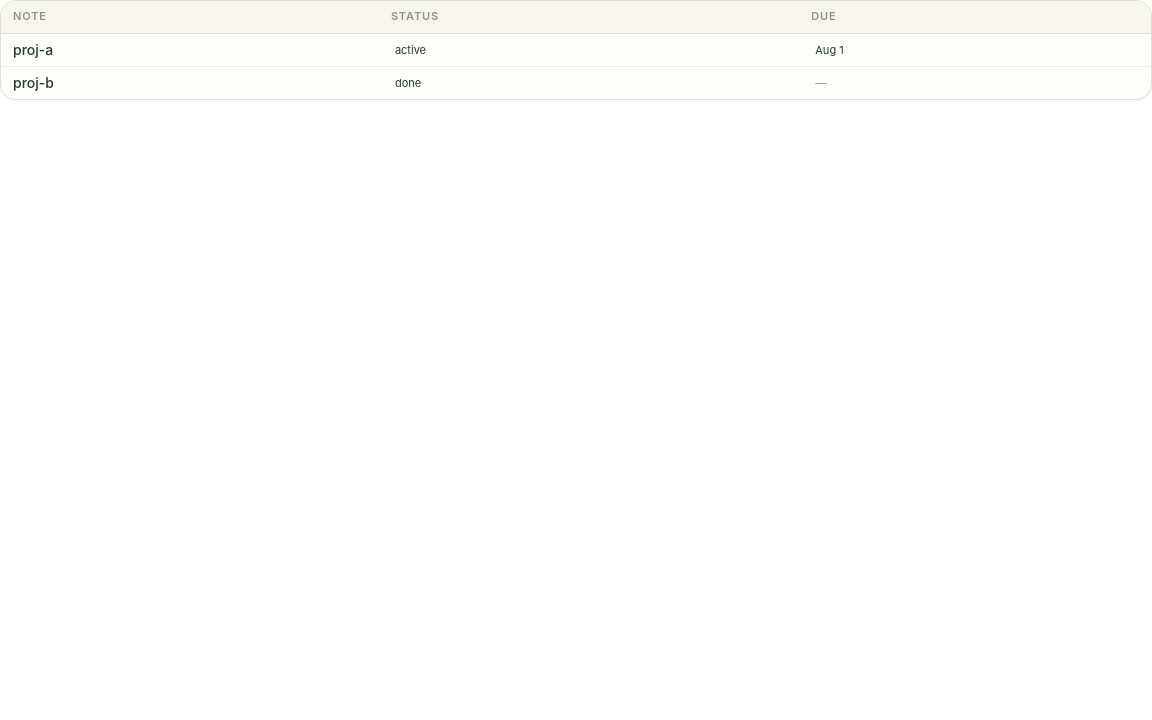
TableView › an empty cell shows the quiet — affordance; clicking it opens the editor
Step 1. Click the button named "Edit due" → coordinates (821, 84), box 811,74 -> 830,94
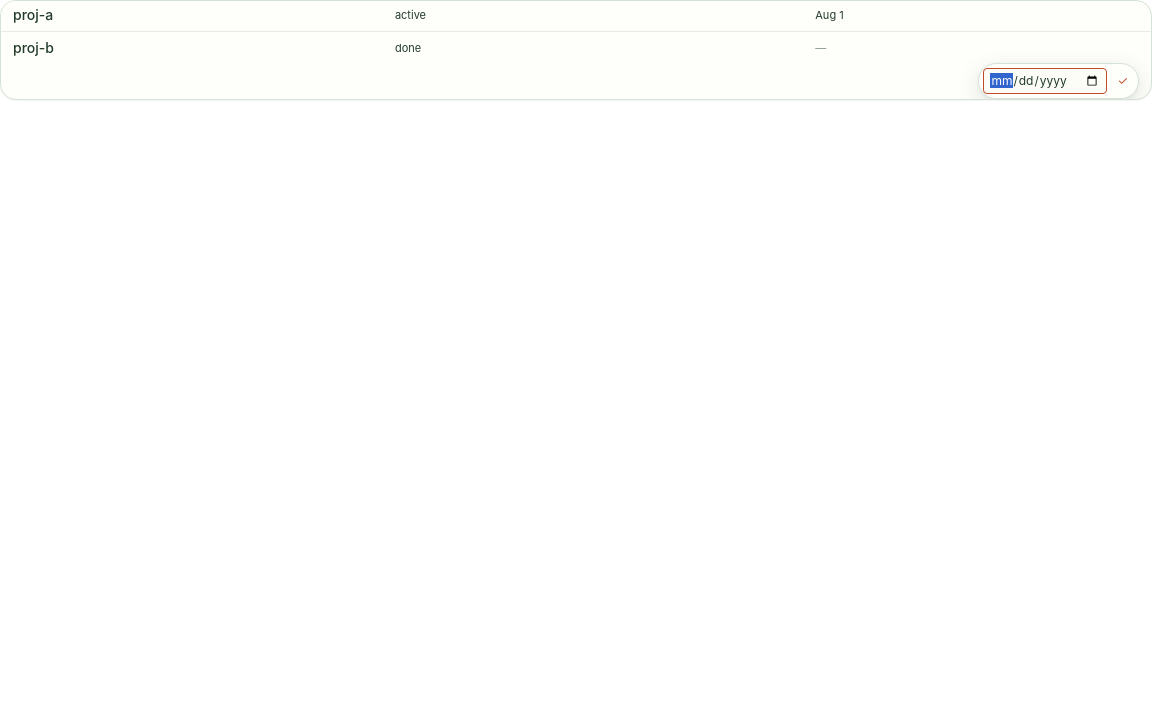
expect the dialog named "Edit due" is shown: met, box 978,62 -> 1139,98
